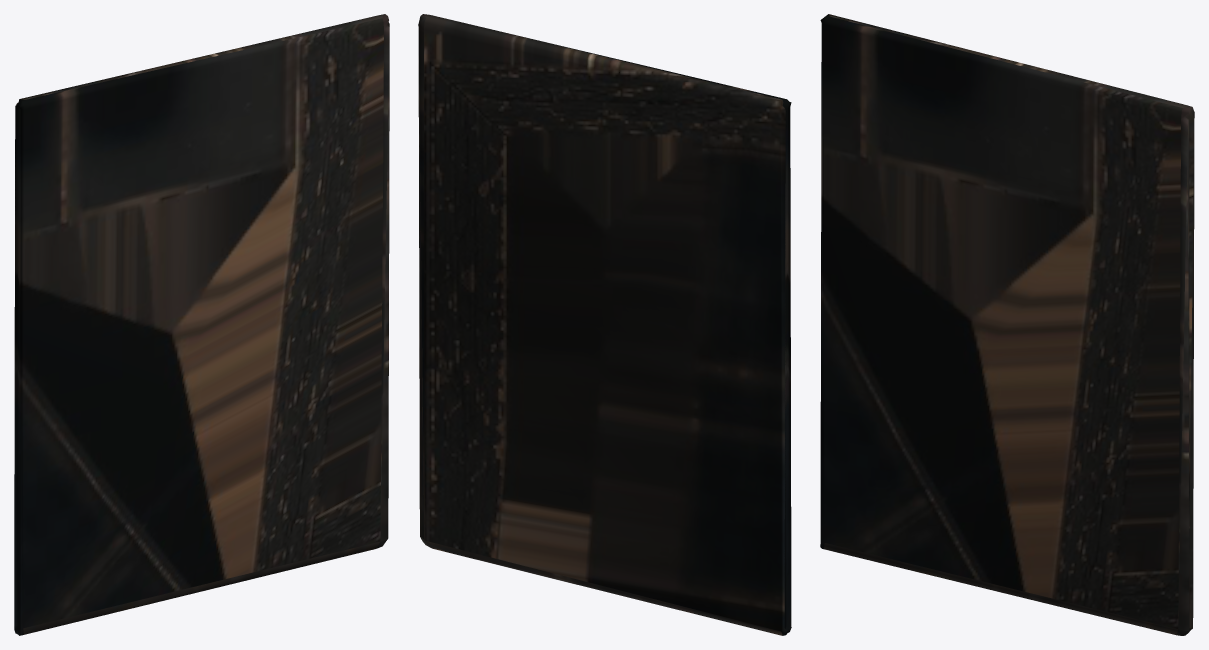
File: hospital sign1.fbx
3 renders of one model, left to right at view 1: azimuth 30°, elevation 25°; view 2: azimuth 150°, elevation 25°; view 3: azimuth 330°, elevation 25°, orthographic.
Visible parts, largest first — view 1: hospital sign1; view 2: hospital sign1; view 3: hospital sign1.
Boxes of the visible parts, x1,y1,x2,y2 form: hospital sign1: [14, 14, 389, 635]; hospital sign1: [418, 14, 791, 635]; hospital sign1: [820, 14, 1194, 635].
Size of the model in its own units: 225 by 310 by 9.16.
